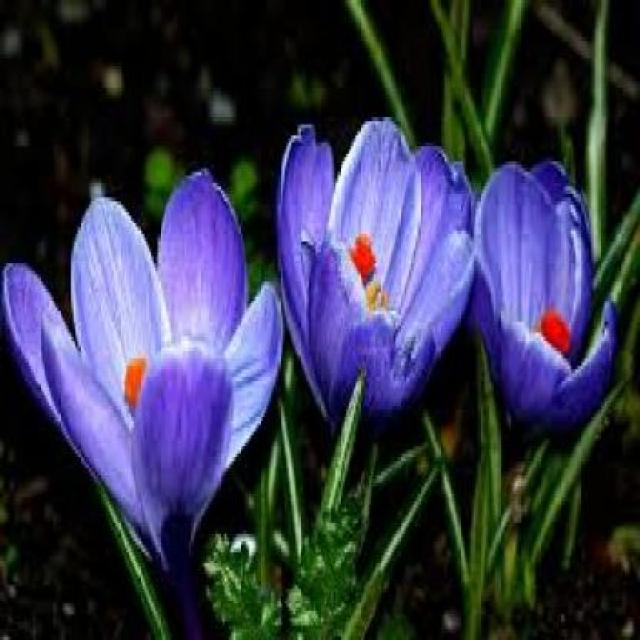saffron open: (4, 186, 283, 636), (279, 119, 614, 419)
